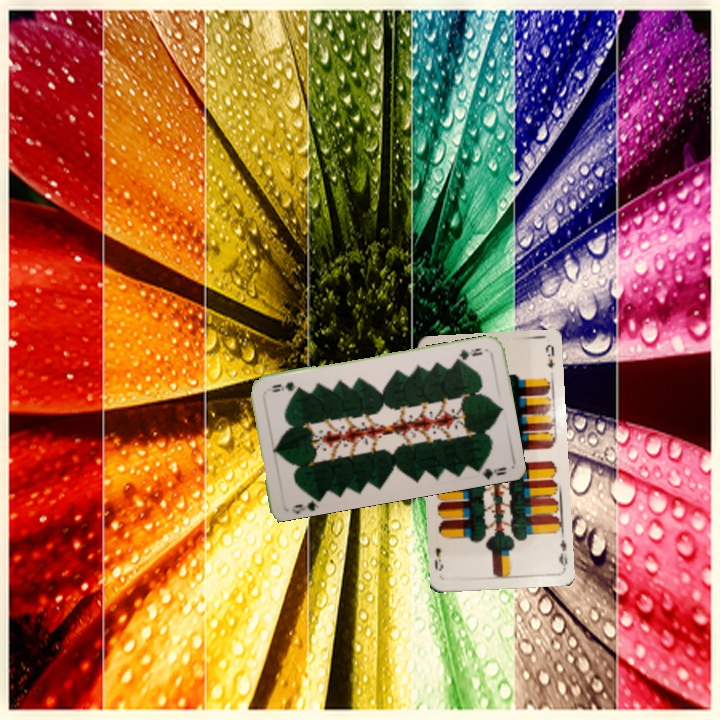E9: (555, 535, 570, 571)
G9: (288, 492, 324, 515), (451, 344, 485, 364)
